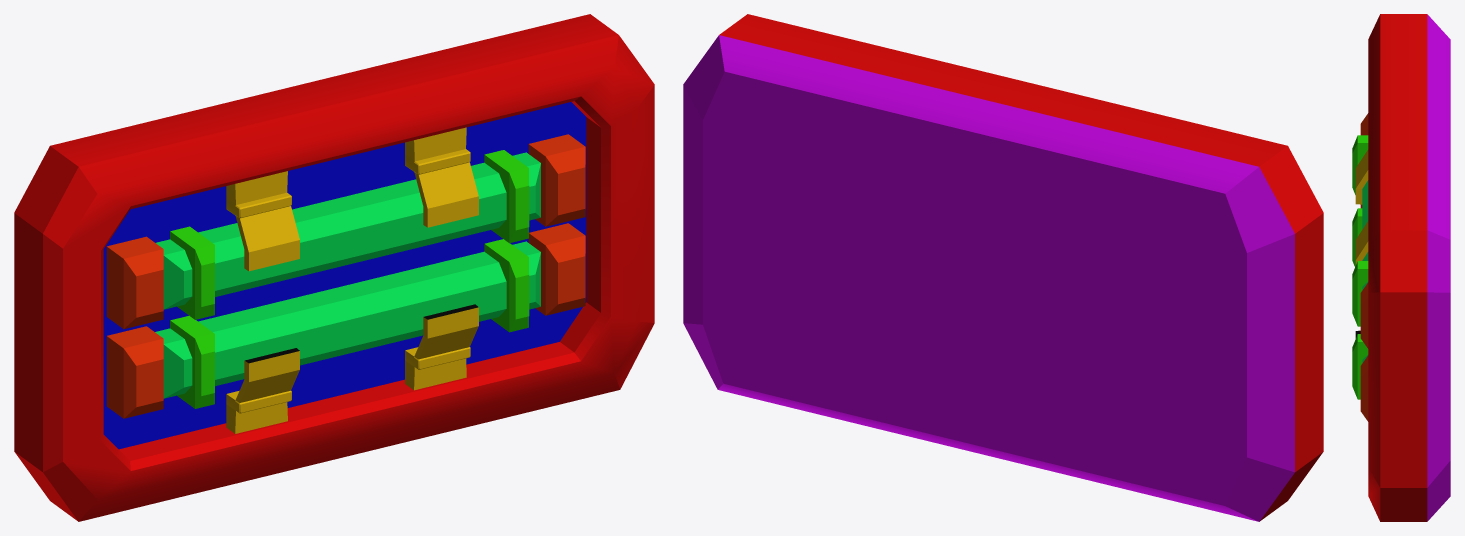
File: Light.fbx
3 views of the same model, side by side, from view 1: azimuth 30°, elevation 25°; view 2: azimuth 150°, elevation 25°; view 3: azimuth 270°, elevation 25° (orthographic). The views are drawn at different scales.
Visible parts, largest first — view 1: pCube15; view 2: pCube15; view 3: pCube15.
Part boxes in pixels (x1=…): pCube15: x1=14, y1=14, x2=654, y2=521; pCube15: x1=683, y1=14, x2=1323, y2=521; pCube15: x1=1352, y1=14, x2=1450, y2=521.
Size of the model in its own units: 5.21 by 2.89 by 0.8827.
